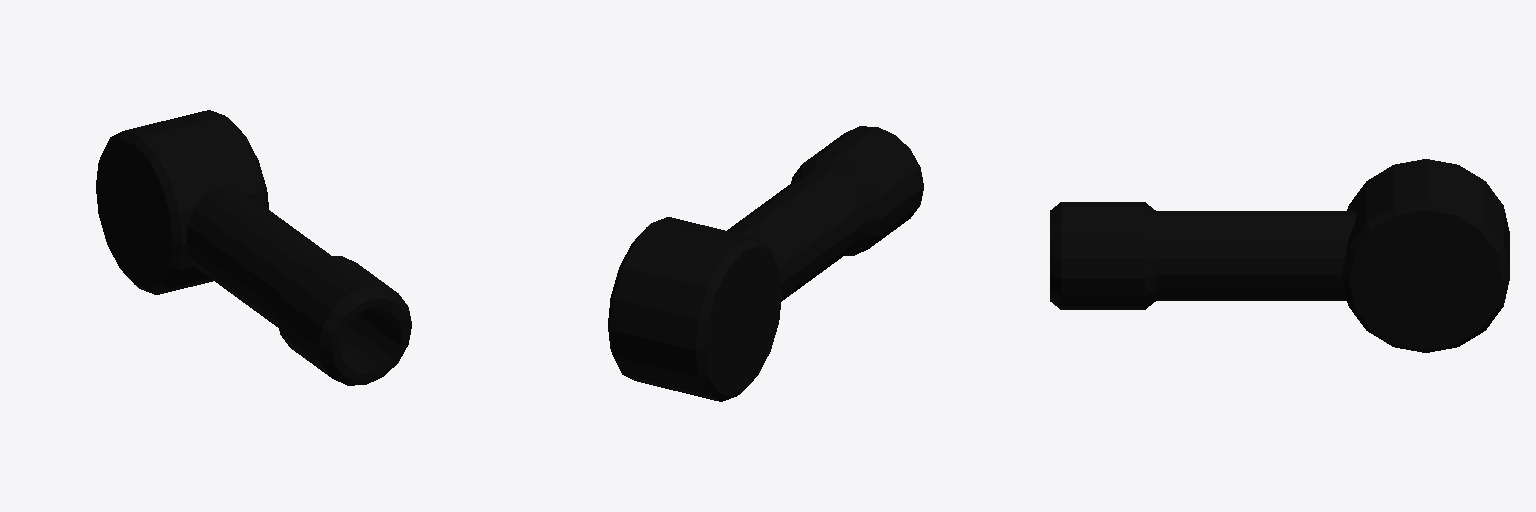
The model's file is barrel.obj.
The picture shows the model from 3 angles: view 1: azimuth 30°, elevation 25°; view 2: azimuth 150°, elevation 25°; view 3: azimuth 270°, elevation 25°; orthographic projection.
Visible parts, largest first — view 1: Barrel; view 2: Barrel; view 3: Barrel.
Boxes of the visible parts, x1=… form: Barrel: x1=96, y1=110, x2=411, y2=385; Barrel: x1=608, y1=126, x2=923, y2=401; Barrel: x1=1050, y1=159, x2=1509, y2=352.
Bounding box in the file's own units: 0.4 × 0.6 × 1.64.